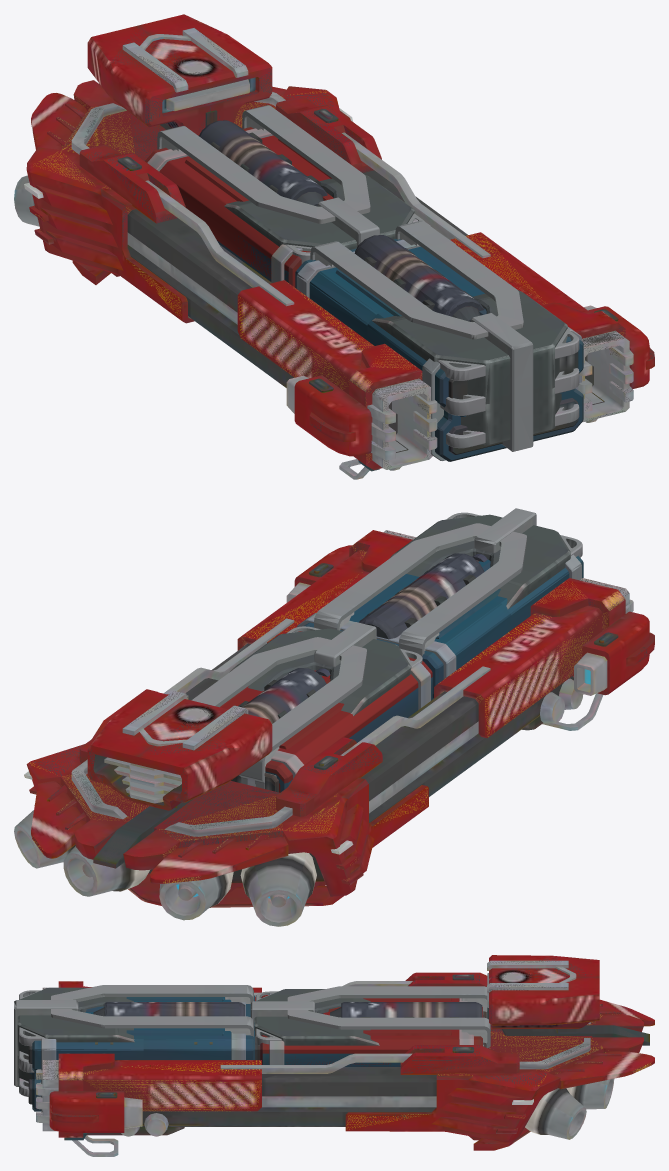
File: forklift.glb
3 views of the same model, one above another, from view 1: azimuth 30°, elevation 25°; view 2: azimuth 150°, elevation 25°; view 3: azimuth 270°, elevation 25° (orthographic). The views are drawn at different scales.
Visible parts, largest first — view 1: Cube.013, prop_cargobox3.000, prop_cargobox3.023, prop_cargobox5a.020, prop_cargobox5b.000, Cube.036, Cube.029, prop_cargobox5a.000; view 2: Cube.013, prop_cargobox3.000, prop_cargobox3.023, prop_cargobox5a.020, Cube.029, Cube.036, prop_cargobox5b.000, prop_cargobox5a.000; view 3: Cube.013, prop_cargobox3.000, prop_cargobox3.023, prop_cargobox5a.020, prop_cargobox5b.000, Cube.036, Cube.029, prop_cargobox5a.000.
Boxes of the visible parts, x1=… form: Cube.013: x1=14, y1=14, x2=654, y2=479; prop_cargobox3.000: x1=310, y1=220, x2=579, y2=451; prop_cargobox3.023: x1=157, y1=105, x2=425, y2=263; prop_cargobox5a.020: x1=295, y1=234, x2=583, y2=461; prop_cargobox5b.000: x1=145, y1=127, x2=430, y2=287; Cube.036: x1=31, y1=28, x2=653, y2=478; Cube.029: x1=15, y1=35, x2=653, y2=478; prop_cargobox5a.000: x1=183, y1=196, x2=288, y2=282; Cube.013: x1=14, y1=530, x2=654, y2=926; prop_cargobox3.000: x1=314, y1=508, x2=582, y2=656; prop_cargobox3.023: x1=191, y1=622, x2=422, y2=788; prop_cargobox5a.020: x1=297, y1=554, x2=583, y2=699; Cube.029: x1=15, y1=530, x2=647, y2=919; Cube.036: x1=18, y1=542, x2=644, y2=912; prop_cargobox5b.000: x1=220, y1=631, x2=432, y2=792; prop_cargobox5a.000: x1=231, y1=677, x2=432, y2=792; Cube.013: x1=36, y1=955, x2=654, y2=1156; prop_cargobox3.000: x1=14, y1=985, x2=253, y2=1096; prop_cargobox3.023: x1=250, y1=986, x2=490, y2=1048; prop_cargobox5a.020: x1=28, y1=995, x2=257, y2=1112; prop_cargobox5b.000: x1=257, y1=991, x2=486, y2=1066; Cube.036: x1=53, y1=957, x2=651, y2=1151; Cube.029: x1=36, y1=968, x2=649, y2=1155; prop_cargobox5a.000: x1=262, y1=1053, x2=400, y2=1066.
Bounding box in the file's own units: 3.24 × 1.75 × 7.31.
2 materials, 2 textured.
